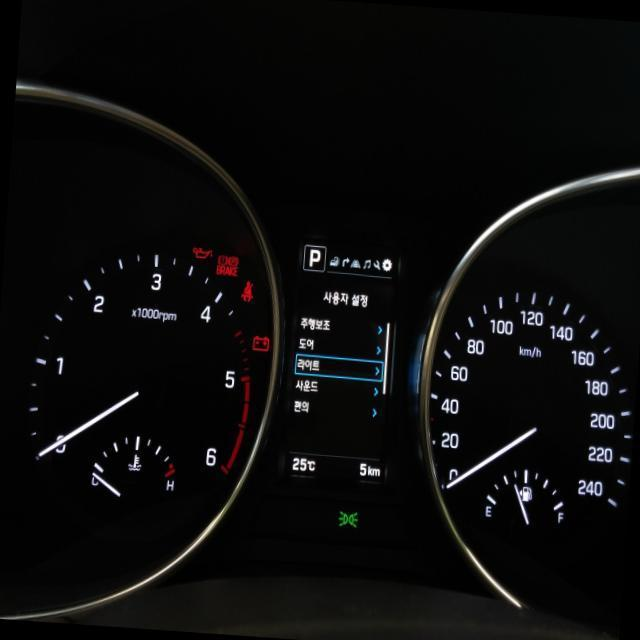SideLamp: (337, 509, 358, 528)
